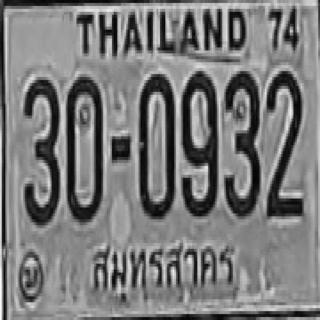N00: (67, 74, 102, 219), (139, 71, 174, 216)
N02: (266, 70, 301, 215)
N03: (23, 76, 59, 224), (222, 68, 258, 216)
N09: (180, 70, 217, 215)
P58: (87, 234, 243, 298)
